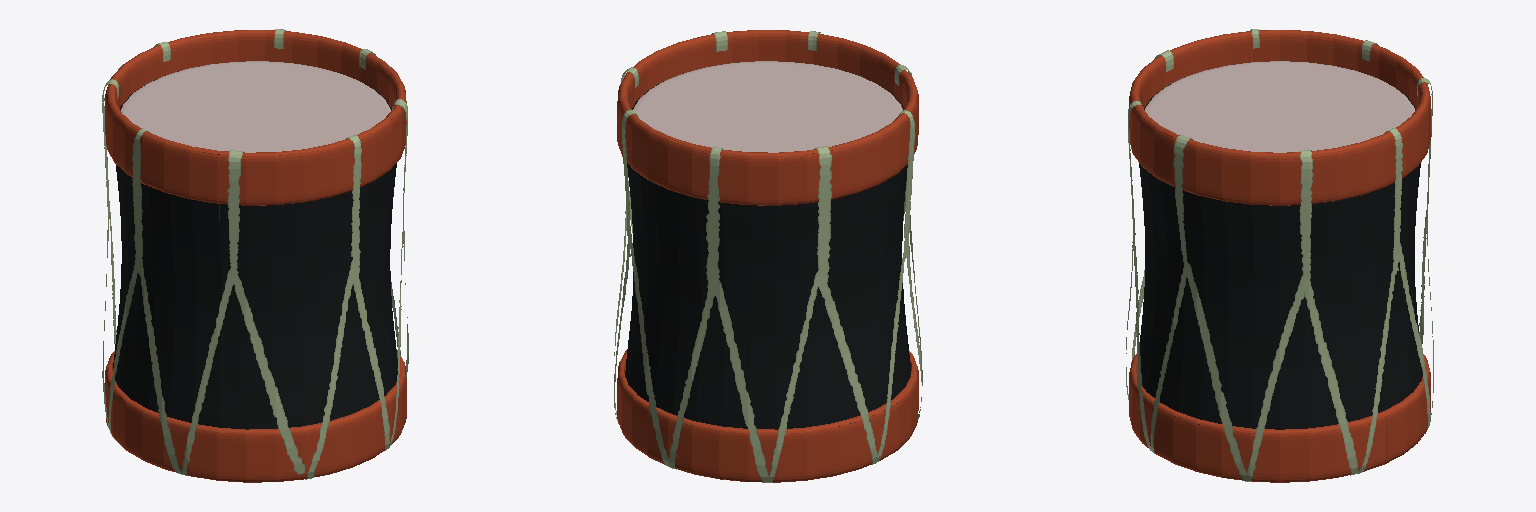
The picture shows the model from 3 angles: view 1: azimuth 30°, elevation 25°; view 2: azimuth 150°, elevation 25°; view 3: azimuth 270°, elevation 25°; orthographic projection.
Parts seen in each view (by area): view 1: Circle.002; view 2: Circle.002; view 3: Circle.002.
Boxes of the visible parts, x1=… form: Circle.002: x1=102, y1=29, x2=408, y2=482; Circle.002: x1=614, y1=30, x2=922, y2=482; Circle.002: x1=1126, y1=29, x2=1433, y2=482.
Size of the model in its own units: 2 by 2.35 by 2.
Materials: 1 (1 with a texture image).